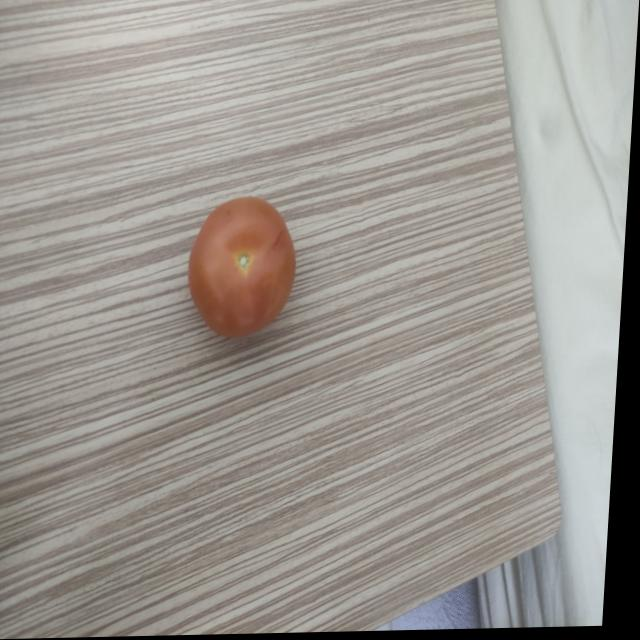sari: (177, 175, 313, 351)
